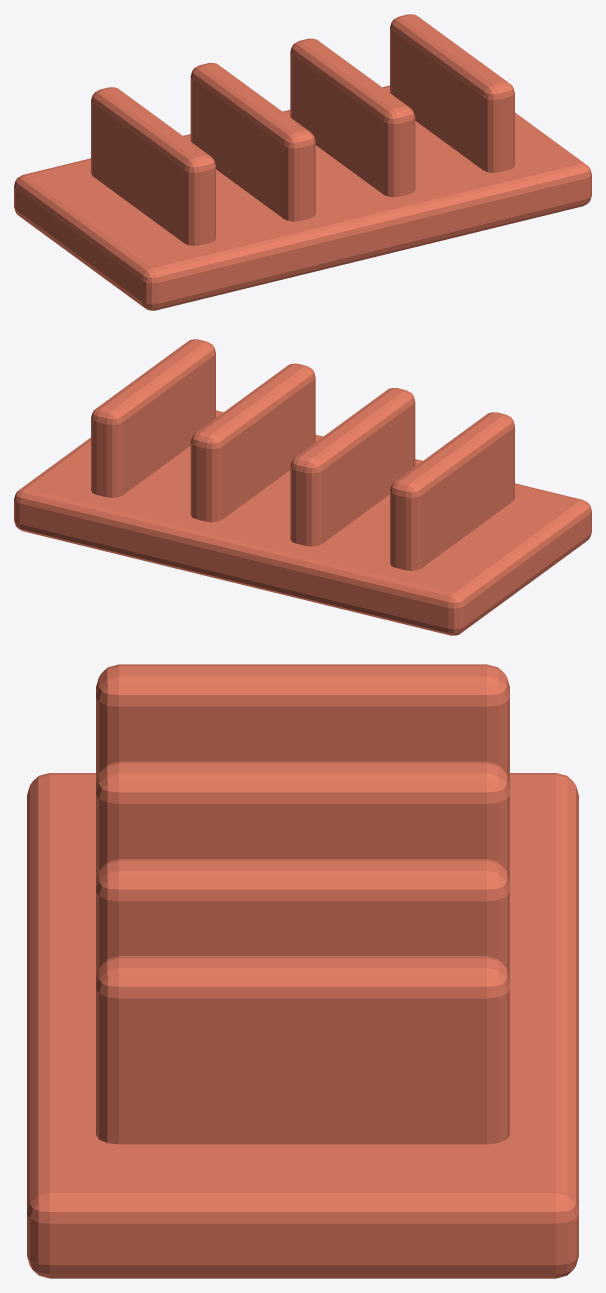
The picture shows the model from 3 angles, top to bottom: view 1: azimuth 30°, elevation 25°; view 2: azimuth 150°, elevation 25°; view 3: azimuth 270°, elevation 25°; orthographic projection. The views are drawn at different scales.
Visible parts, largest first — view 1: CableGuideBase_export, CableDivider.001_export, CableDivider.003_export, CableDivider.002_export, CableDivider_export; view 2: CableGuideBase_export, CableDivider.001_export, CableDivider.003_export, CableDivider.002_export, CableDivider_export; view 3: CableGuideBase_export, CableDivider_export, CableDivider.001_export, CableDivider.002_export, CableDivider.003_export.
Boxes of the visible parts, x1,y1,x2,y2 form: CableGuideBase_export: [14, 85, 591, 310]; CableDivider.001_export: [91, 87, 215, 245]; CableDivider.003_export: [290, 38, 415, 197]; CableDivider.002_export: [190, 63, 315, 221]; CableDivider_export: [390, 14, 514, 172]; CableGuideBase_export: [14, 410, 591, 635]; CableDivider.001_export: [390, 412, 514, 570]; CableDivider.003_export: [190, 363, 315, 522]; CableDivider.002_export: [290, 388, 415, 546]; CableDivider_export: [91, 339, 215, 497]; CableGuideBase_export: [27, 773, 578, 1278]; CableDivider_export: [96, 956, 509, 1144]; CableDivider.001_export: [96, 664, 509, 783]; CableDivider.002_export: [96, 761, 509, 880]; CableDivider.003_export: [96, 859, 509, 977].
Bounding box in the file's own units: 0.045 × 0.012 × 0.024.
